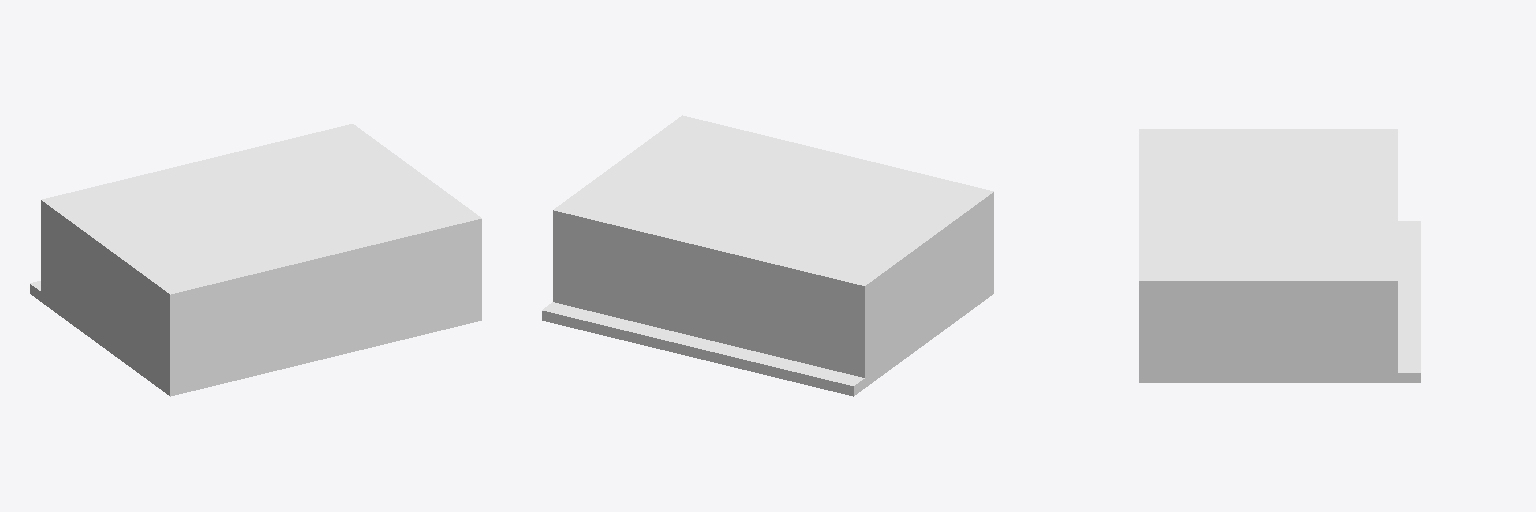
File: obj_diary.obj
3 views of the same model, side by side, from view 1: azimuth 30°, elevation 25°; view 2: azimuth 150°, elevation 25°; view 3: azimuth 270°, elevation 25° (orthographic).
Parts seen in each view (by area): view 1: obj_diary; view 2: obj_diary; view 3: obj_diary.
Part boxes in pixels (left/top/right/bottom): obj_diary: left=30, top=124, right=481, bottom=396; obj_diary: left=542, top=115, right=993, bottom=396; obj_diary: left=1139, top=129, right=1420, bottom=382.
Bounding box in the file's own units: 32 × 10 × 25.